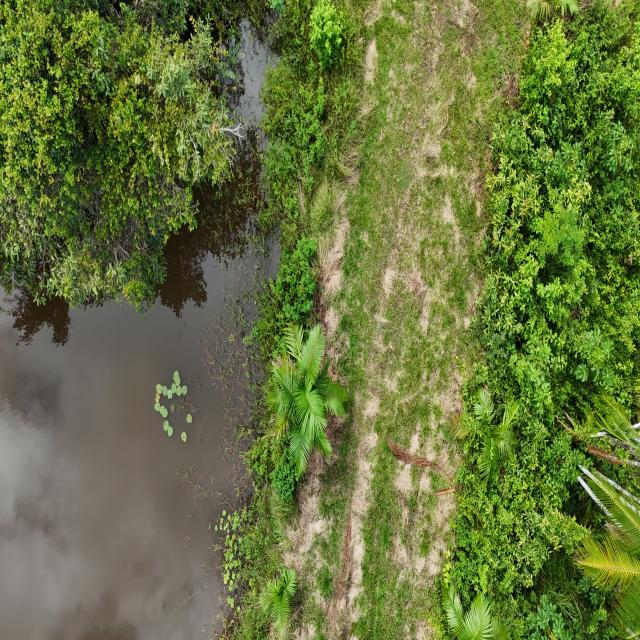vegetation: (438, 1, 639, 638), (0, 0, 247, 316)
